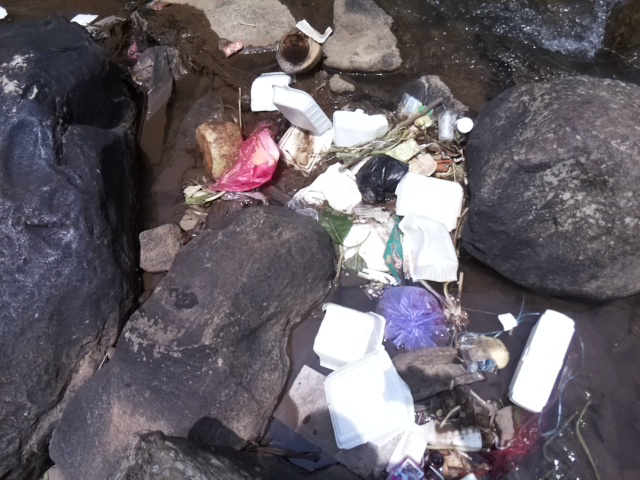Sampah_Plastik: (375, 281, 454, 355), (208, 121, 285, 192), (314, 301, 385, 374), (353, 150, 412, 206), (436, 105, 457, 145)
Sampah_Styrofoam: (318, 345, 417, 452), (394, 170, 465, 284), (509, 307, 580, 419), (269, 79, 332, 170), (329, 108, 392, 148), (250, 70, 290, 115), (294, 18, 335, 43), (68, 12, 99, 26)
